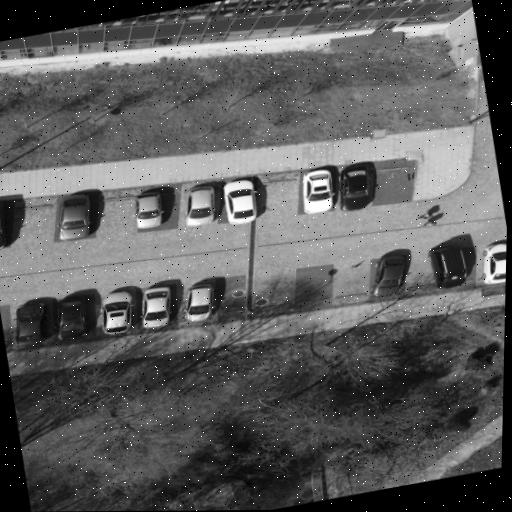car: (429, 246, 473, 288), (339, 161, 375, 210), (57, 193, 89, 240), (371, 255, 406, 296), (223, 179, 255, 223), (302, 169, 333, 213), (57, 295, 87, 339), (15, 302, 45, 345), (102, 291, 131, 333), (142, 286, 169, 327), (185, 186, 213, 225), (185, 283, 213, 321), (481, 243, 506, 283), (134, 192, 161, 228), (0, 201, 5, 247)
person: (417, 212, 434, 218), (422, 221, 436, 226)
